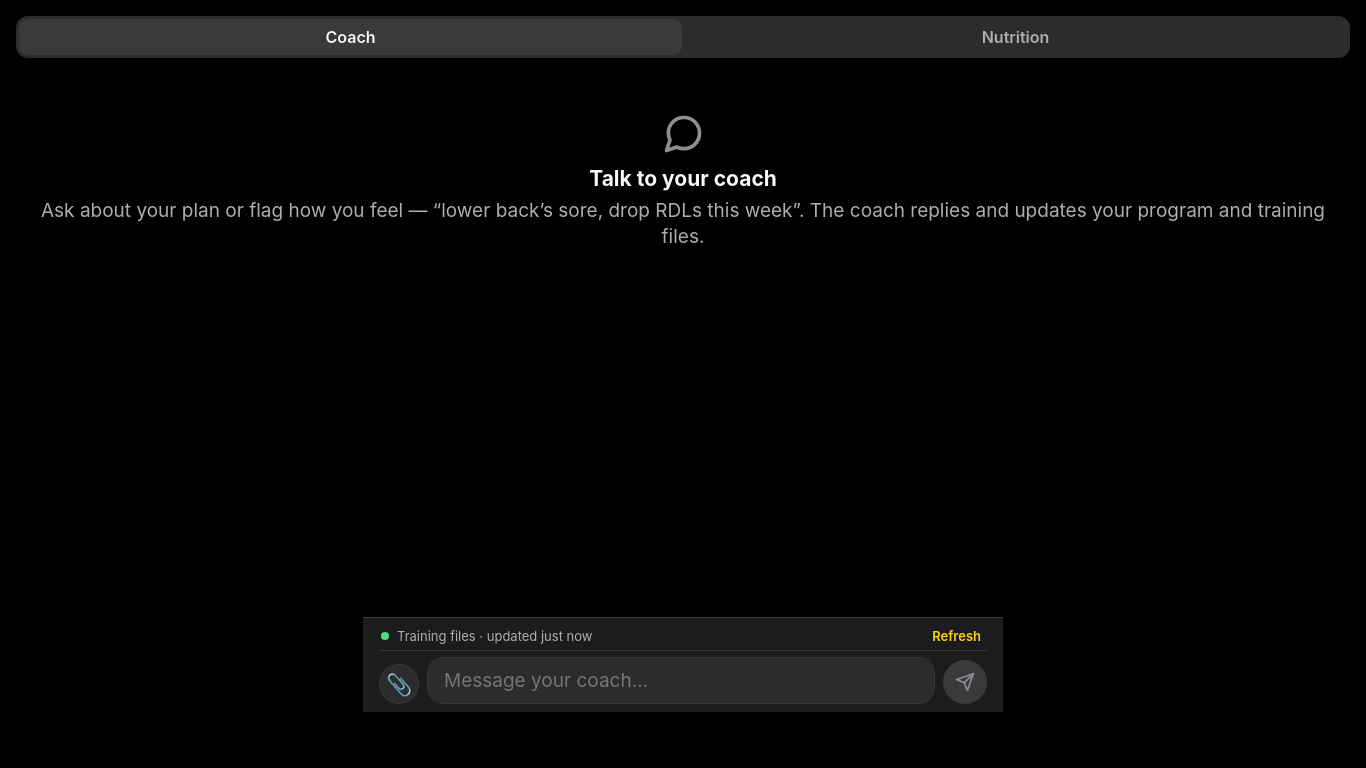
Test case: CoachPane — interrupted reply › shows an honest failed state on the user bubble instead of a bare error
The width and height of the screenshot is (1366, 768).
Type "drop RDLs" into the text box with placeholder "Message your coach…".
click(681, 680); type("drop RDLs")  # box [427,657,935,704]
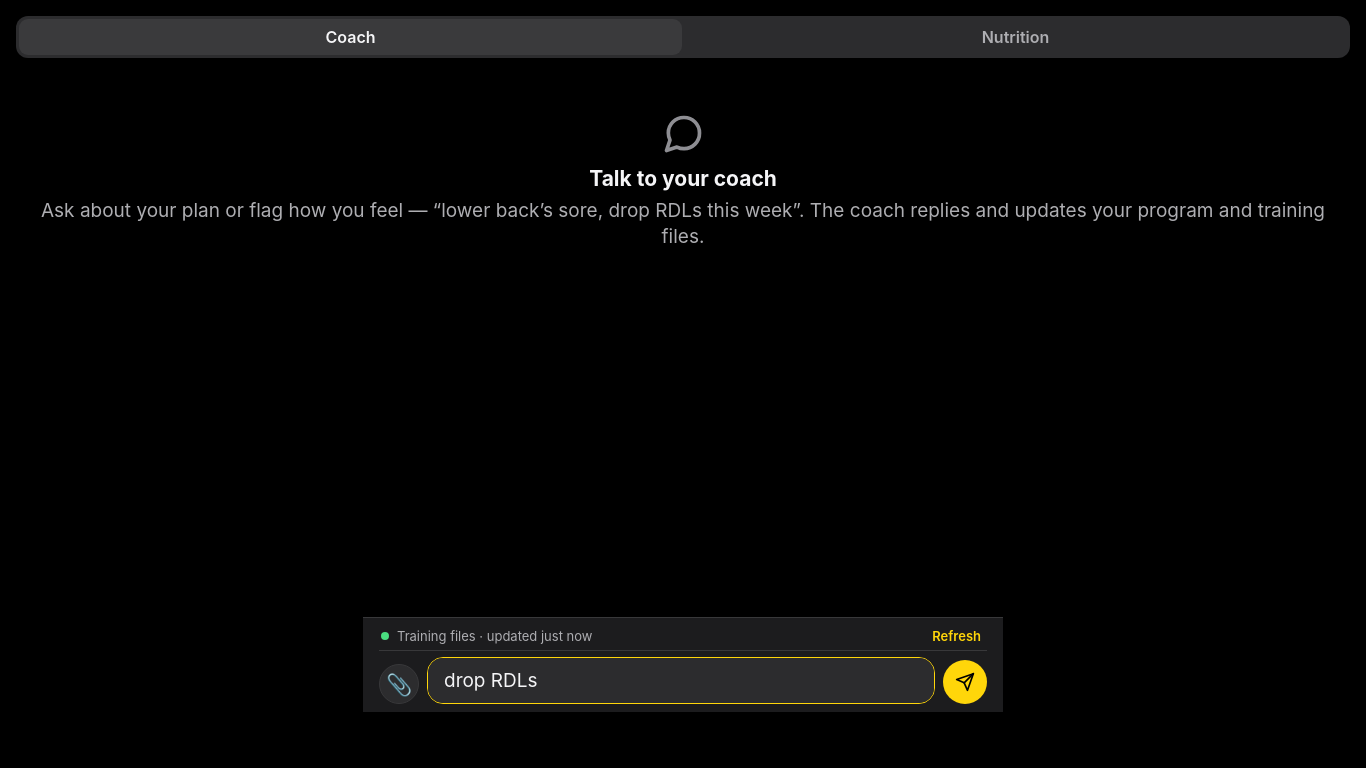
Click the button named "Send message".
click(965, 682)  # box [943,660,987,704]
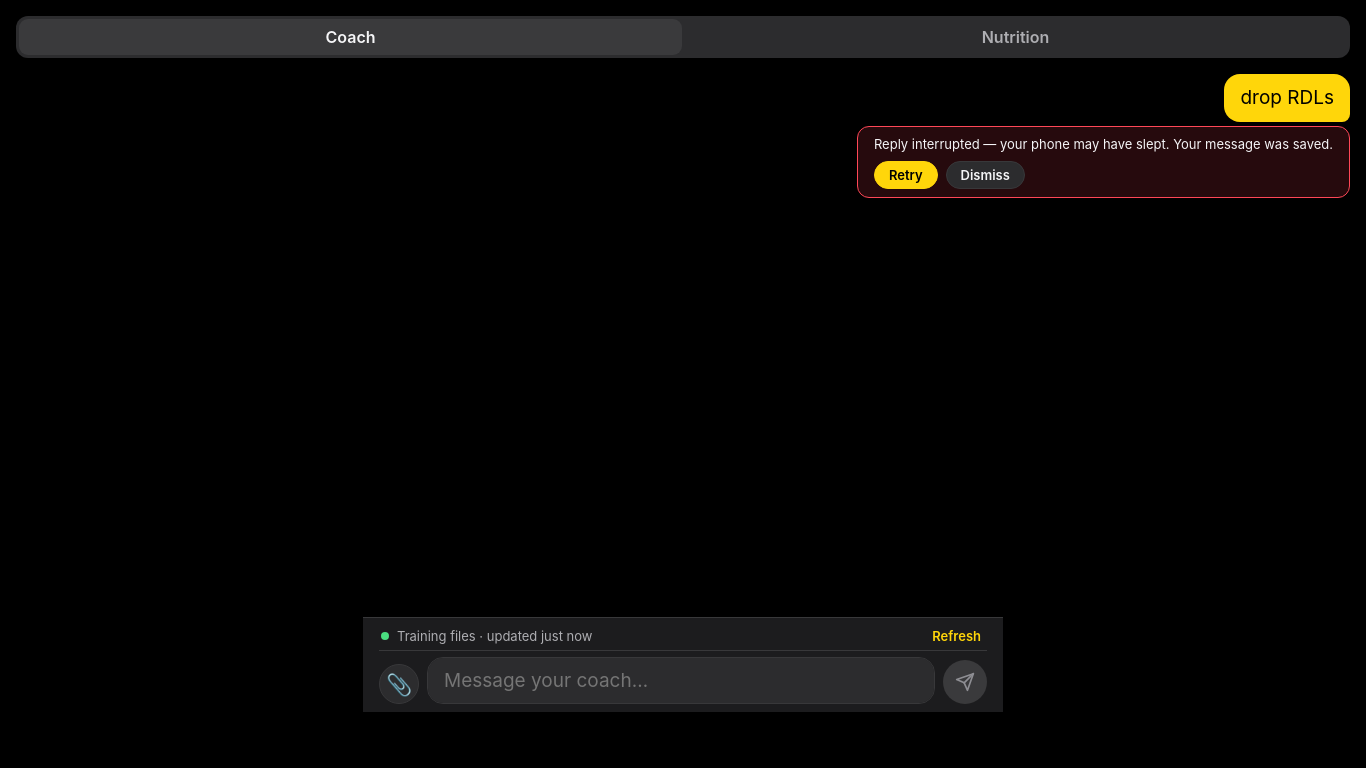
Now the text "Reply interrupted — your phone may have slept" is shown, box [874,136,1333,152]
Now the button "Retry" is shown, box [874,161,938,189]
Now the button "Dismiss" is shown, box [946,161,1025,189]
